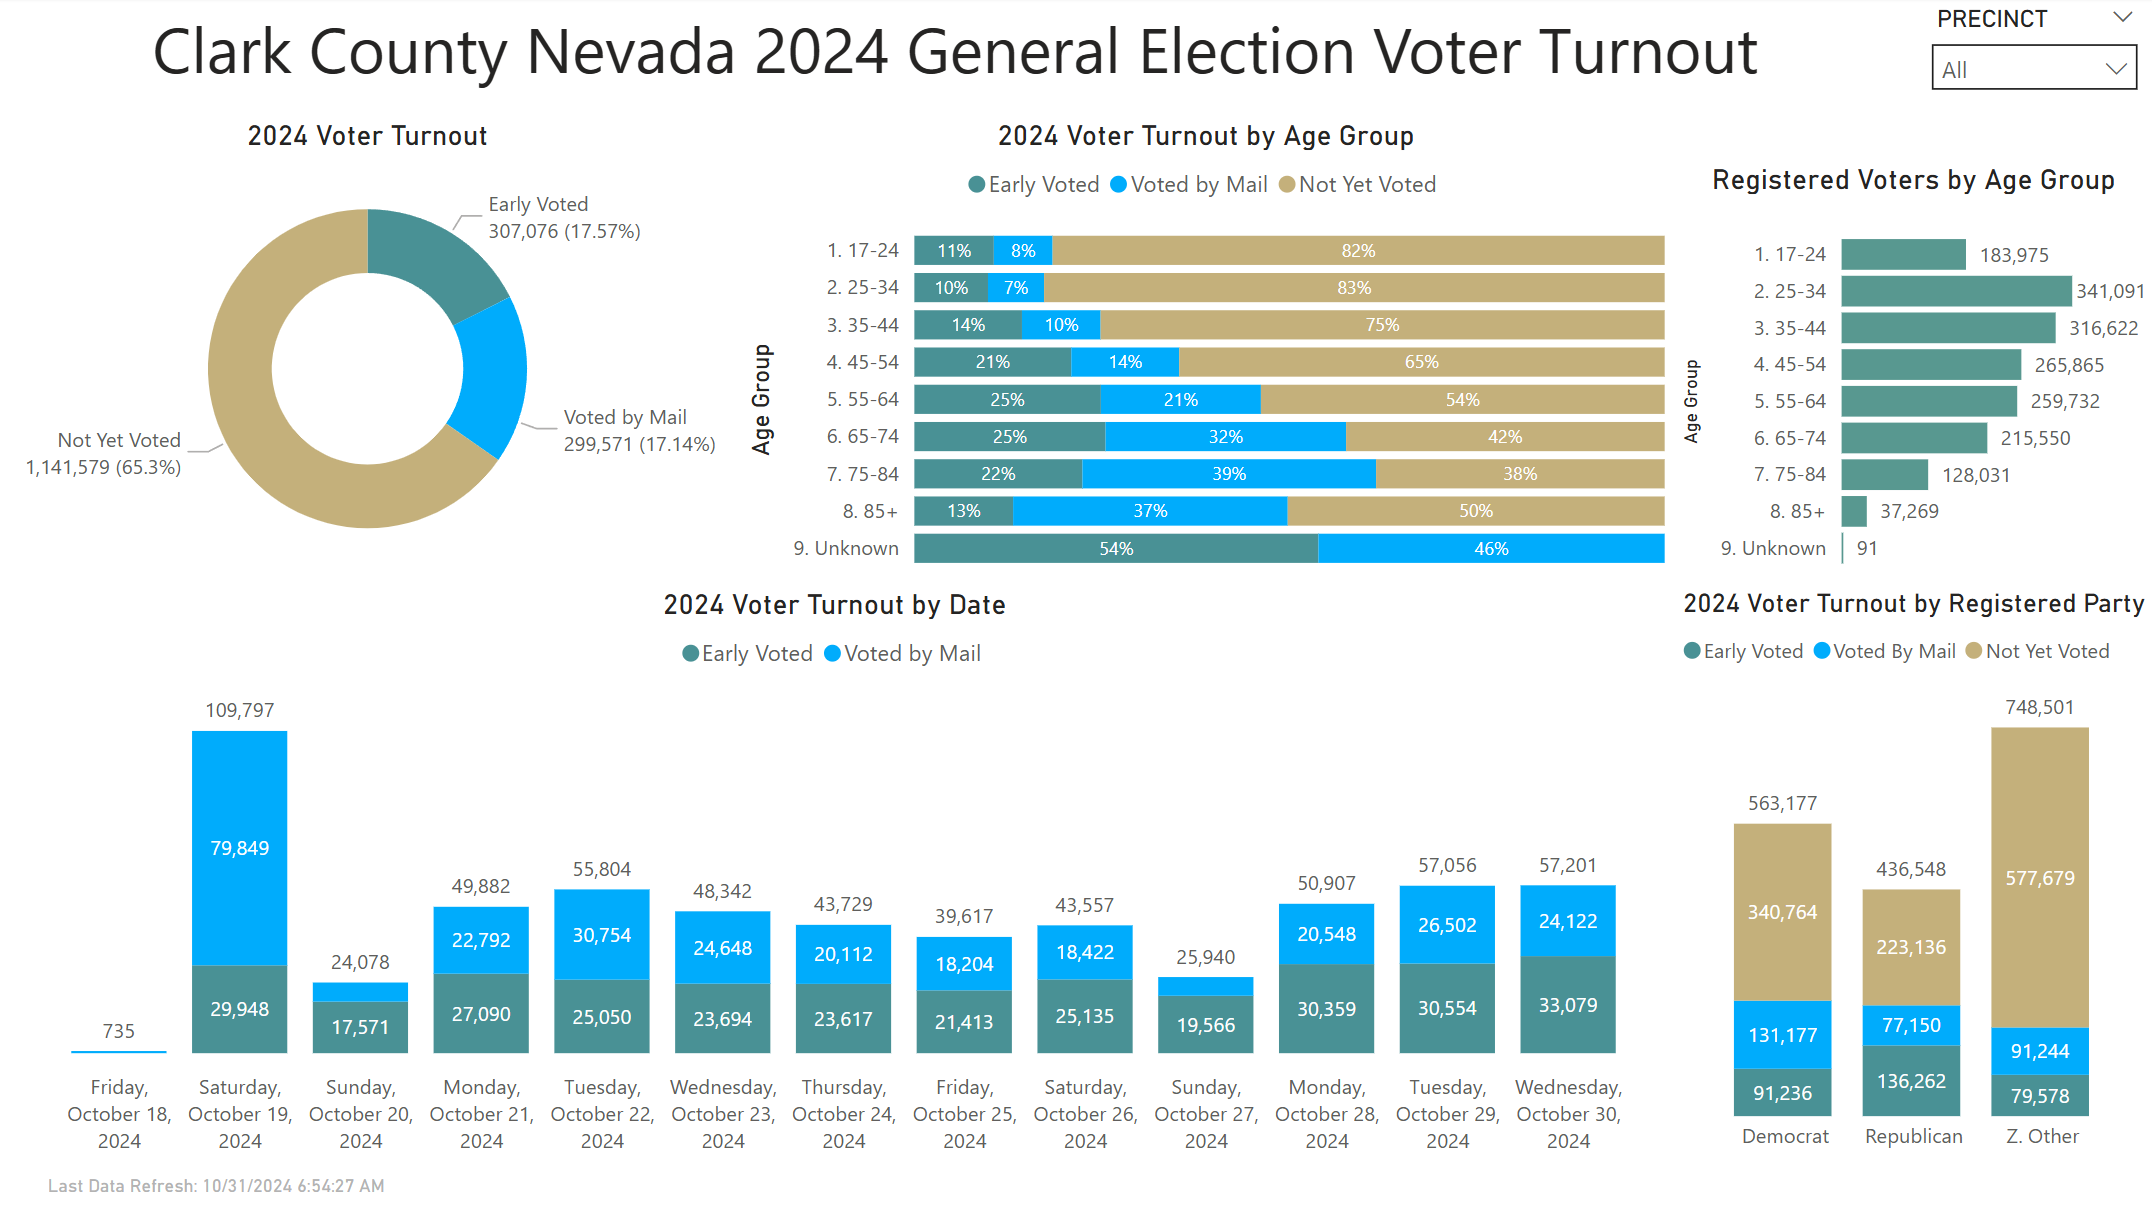

The page's visual inventory and layout, read from the dashboard file:
{"tool":"powerbi","page":{"name":"Dashboard","canvas":[1280,720],"ordinal":0},"visuals":[{"type":"columnChart","title":"2024 Voter Turnout by Date","fields":{"Category":["VoteStatus_20241028.G2024_Voted_Date"],"Y":["Sum(VoteStatus_20241028.Voted_Early)","Sum(VoteStatus_20241028.Voted_Mail)"]},"box":[0,349.7,995.1,343.8],"z":0},{"type":"donutChart","title":"2024 Voter Turnout","fields":{"Y":["Sum(VoteStatus_20241028.Voted_Early)","Sum(VoteStatus_20241028.Voted_Mail)","Sum(VoteStatus_20241028.Not_Voted)"]},"box":[0,71.6,440.7,278.4],"z":1000},{"type":"hundredPercentStackedBarChart","title":"2024 Voter Turnout by Age Group","fields":{"Category":["VoteStatus_20241028.Age_Group"],"Y":["Sum(VoteStatus_20241028.Voted_Early)","Sum(VoteStatus_20241028.Voted_Mail)","Sum(VoteStatus_20241028.Not_Voted)"]},"box":[440.7,71.6,554.1,278.4],"z":2000},{"type":"textbox","title":"Title","box":[0,0,1138,71.6],"z":3000},{"type":"columnChart","title":"2024 Voter Turnout by Registered Party","fields":{"Category":["VoteStatus_20241028.PARTY"],"Y":["Sum(VoteStatus.Voted_Early)","Sum(VoteStatus.Voted_Mail)","Sum(VoteStatus.Not_Voted)"]},"box":[995.1,349.7,284.9,343.8],"z":4000},{"type":"slicer","title":"Precinct Slicer","fields":{"Values":["VoteStatus_20241028.PRECINCT"]},"box":[1138,0,142.4,59.8],"z":5000},{"type":"barChart","title":"Registered Voters by Age Group","fields":{"Category":["VoteStatus_20241028.Age_Group"],"Y":["Sum(VoteStatus.QTY)"]},"box":[994.8,97.9,285.6,252.1],"z":6000},{"type":"card","title":"Last Data Refresh","fields":{"Values":["Reload Time.Refresh Time Label"]},"box":[0,693.5,261.3,26.5],"z":7000}]}

Visuals, with their boxes in screenshot pixels (x1, y1, x2, y2), scaled from the page's 1280x720 canvas onto the 2152x1209 screenshot:
"2024 Voter Turnout by Date" columnChart: 0 587 1673 1165
"2024 Voter Turnout" donutChart: 0 120 741 588
"2024 Voter Turnout by Age Group" hundredPercentStackedBarChart: 741 120 1673 588
"Title" textbox: 0 0 1913 120
"2024 Voter Turnout by Registered Party" columnChart: 1673 587 2151 1165
"Precinct Slicer" slicer: 1913 0 2151 100
"Registered Voters by Age Group" barChart: 1673 164 2151 588
"Last Data Refresh" card: 0 1165 439 1208
